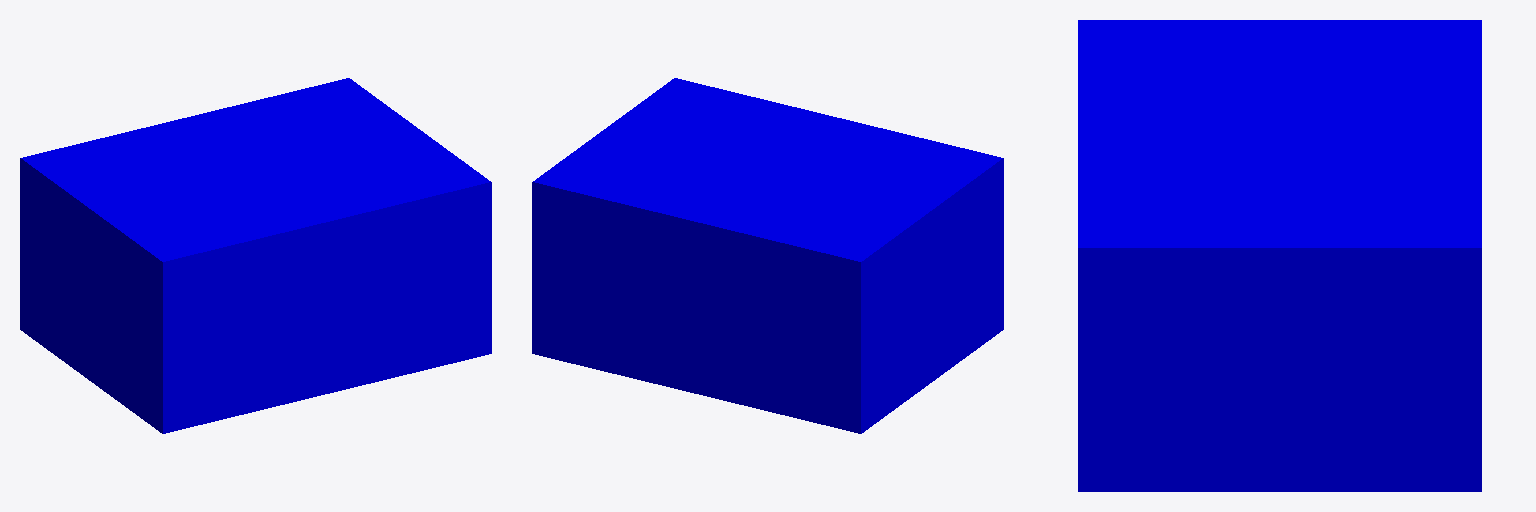
robot.urdf — cubeDE7:
<?xml version="1.0"?>
<robot name="cubeDE7">
	<link name="base">
	<inertial>
        	 <origin xyz="0 0 0" rpy="0 0 0"/>
        	 <mass value="0.5"/>
        	 <inertia ixx="0.000683333"  ixy="0"  ixz="0" iyy="0.000683333" iyz="0" izz="0.000683333" />
       </inertial>
		<visual>
			<origin xyz="0 0 0" rpy="0 0 0" />
			<geometry>
				<box size="0.04 0.03 0.02" />
			</geometry>
			<material>
				<color rgba="0 0 1 1" />
			</material>
		</visual>
		<collision>
			<origin xyz="0 0 0" rpy="0 0 0" />
			<material>
				<color rgba="0 0 1 1" />
			</material>
			<geometry>
				<box size="0.04 0.03 0.02" />
			</geometry>
			
		</collision>
	</link>
</robot>

--- Render facts (derived) ---
3 views of the same robot in one strip: view 1: azimuth 30°, elevation 25°; view 2: azimuth 150°, elevation 25°; view 3: azimuth 270°, elevation 25° (orthographic).
Robot: cubeDE7 — 1 links, 0 joints (none); root link base; default pose: every joint at zero.
Links seen in each view (by area): view 1: base; view 2: base; view 3: base.
Link boxes in pixels (x1=…): base: x1=20, y1=78, x2=491, y2=433; base: x1=532, y1=78, x2=1003, y2=433; base: x1=1078, y1=20, x2=1481, y2=491.
Size in the robot's own frame: 0.04 by 0.03 by 0.02 metres.
Geometry: primitives only (box / cylinder / sphere), no mesh files.
